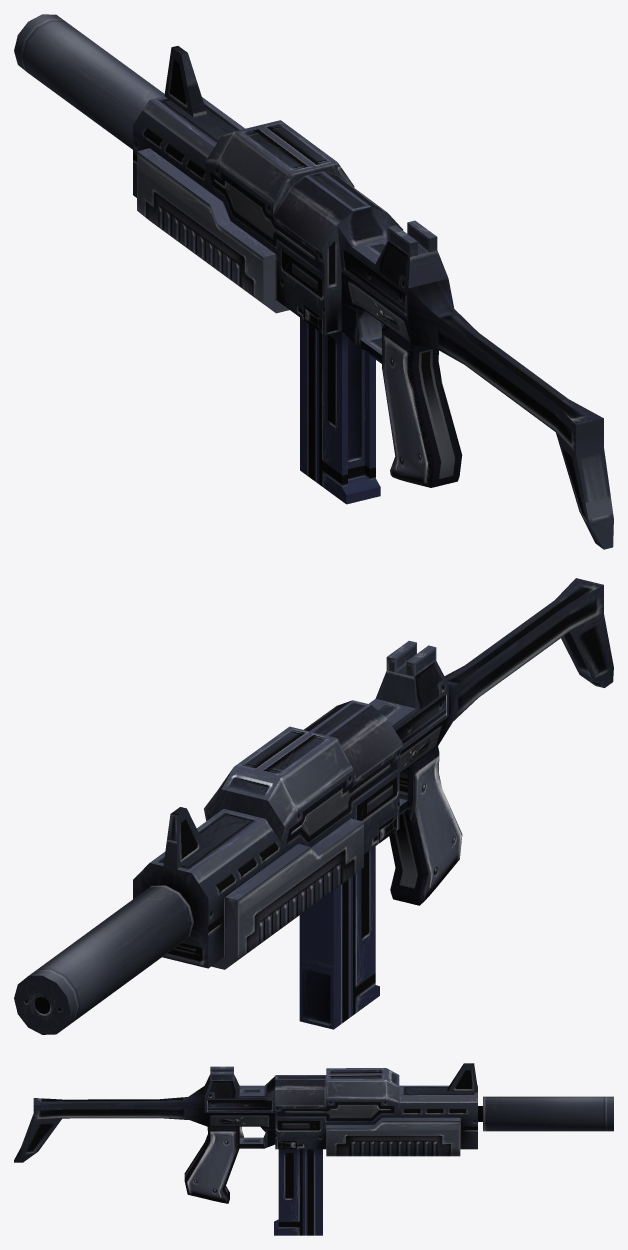
Rendered from smach.FBX.
3 views of the same model, one above another, from view 1: azimuth 30°, elevation 25°; view 2: azimuth 150°, elevation 25°; view 3: azimuth 270°, elevation 25° (orthographic). The views are drawn at different scales.
Visible parts, largest first — view 1: main; view 2: main; view 3: main.
Part boxes in pixels (x1,y1,x2,y2): main: (14, 14, 613, 549); main: (14, 578, 613, 1034); main: (14, 1063, 613, 1235).
Bounding box in the file's own units: 2.43 × 7.24 × 23.59.
1 material, 1 textured.
